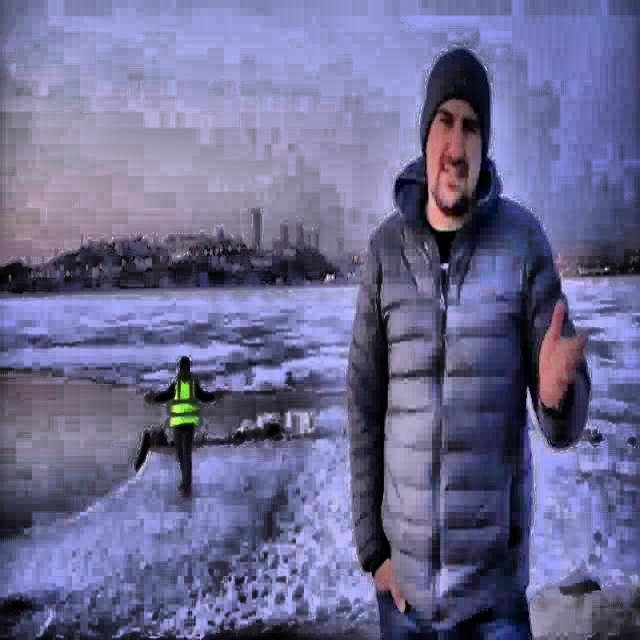safety_jacket: (168, 372, 199, 430)
